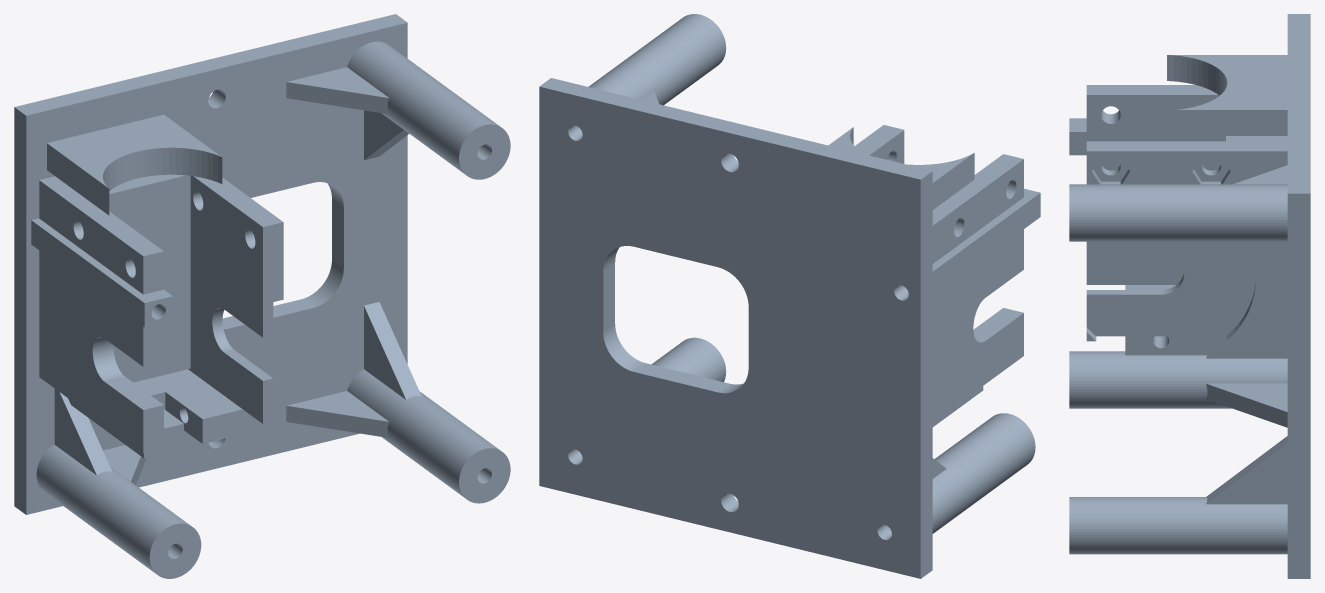
The model's file is soporte_tt_mecanum_base.glb.
3 renders of one model, left to right at view 1: azimuth 30°, elevation 25°; view 2: azimuth 150°, elevation 25°; view 3: azimuth 270°, elevation 25°, orthographic. The views are drawn at different scales.
Visible parts, largest first — view 1: geometry_0; view 2: geometry_0; view 3: geometry_0.
Boxes of the visible parts, x1=… form: geometry_0: x1=14, y1=14, x2=510, y2=578; geometry_0: x1=539, y1=14, x2=1040, y2=578; geometry_0: x1=1069, y1=14, x2=1310, y2=578.
Size of the model in its own units: 74 by 74 by 42.
